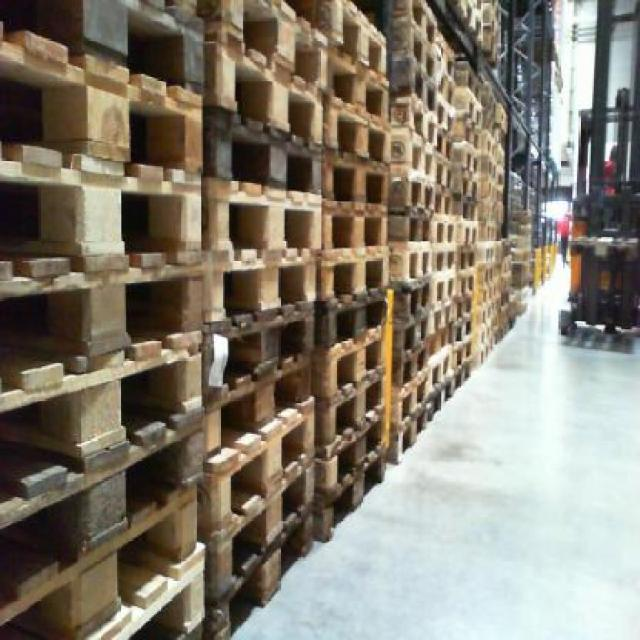pallet: (0, 237, 204, 402), (0, 140, 202, 304), (0, 24, 210, 170), (202, 15, 334, 141), (201, 95, 326, 202), (198, 163, 331, 260), (203, 236, 328, 315), (201, 360, 321, 438), (200, 315, 318, 378), (321, 31, 392, 124), (310, 276, 394, 348), (304, 326, 394, 389), (313, 193, 397, 259), (311, 232, 395, 295), (312, 152, 398, 212), (320, 108, 395, 164), (391, 129, 436, 182), (390, 170, 442, 212), (390, 236, 436, 282), (391, 272, 437, 317), (391, 205, 436, 248)
